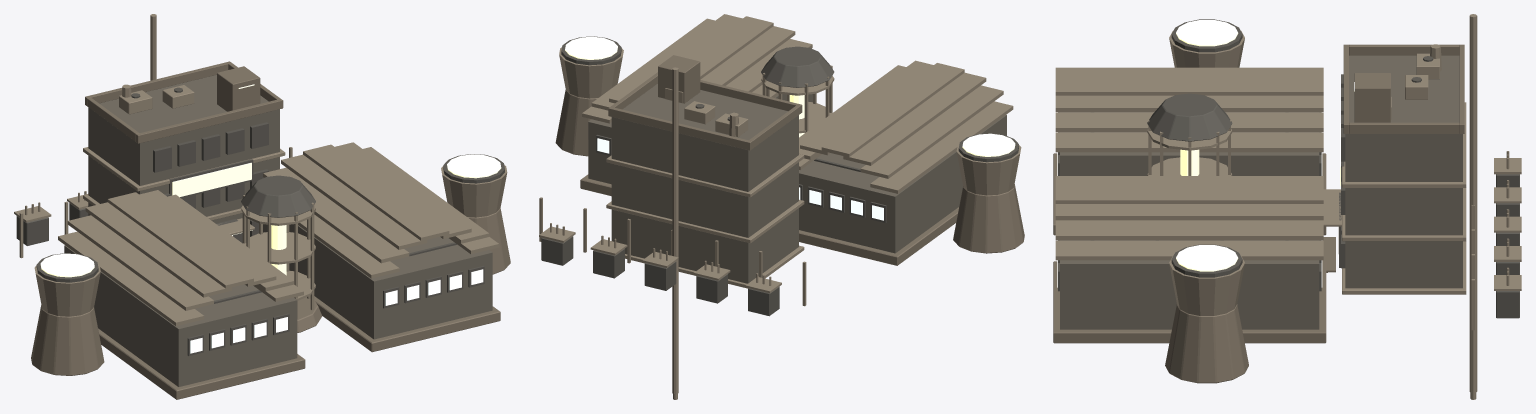
The model's file is model_compute.glb.
3 views of the same model, side by side, from view 1: azimuth 30°, elevation 25°; view 2: azimuth 150°, elevation 25°; view 3: azimuth 270°, elevation 25° (orthographic). The views are drawn at different scales.
Parts seen in each view (by area): view 1: model_compute_Steel@industrial, model_compute_Graphite@industrial, model_compute_Concrete@industrial, model_compute_DarkAlloy@industrial, model_compute_Amber, model_compute_CoolGlass; view 2: model_compute_Steel@industrial, model_compute_Graphite@industrial, model_compute_Concrete@industrial, model_compute_DarkAlloy@industrial, model_compute_Amber, model_compute_CoolGlass; view 3: model_compute_Steel@industrial, model_compute_Graphite@industrial, model_compute_Concrete@industrial, model_compute_DarkAlloy@industrial, model_compute_Amber.
Part boxes in pixels (left/top/right/bottom): model_compute_Steel@industrial: left=14, top=14, right=507, bottom=326; model_compute_Graphite@industrial: left=64, top=75, right=492, bottom=386; model_compute_Concrete@industrial: left=31, top=61, right=510, bottom=399; model_compute_DarkAlloy@industrial: left=16, top=87, right=504, bottom=355; model_compute_Amber: left=40, top=84, right=501, bottom=277; model_compute_CoolGlass: left=190, top=269, right=483, bottom=353; model_compute_Steel@industrial: left=539, top=14, right=1021, bottom=399; model_compute_Graphite@industrial: left=588, top=83, right=1006, bottom=283; model_compute_Concrete@industrial: left=555, top=55, right=1024, bottom=265; model_compute_DarkAlloy@industrial: left=541, top=36, right=1018, bottom=316; model_compute_Amber: left=565, top=36, right=1015, bottom=156; model_compute_CoolGlass: left=597, top=138, right=883, bottom=220; model_compute_Steel@industrial: left=1055, top=14, right=1521, bottom=399; model_compute_Graphite@industrial: left=1060, top=55, right=1462, bottom=329; model_compute_Concrete@industrial: left=1053, top=44, right=1464, bottom=383; model_compute_DarkAlloy@industrial: left=1058, top=19, right=1519, bottom=318; model_compute_Amber: left=1176, top=20, right=1354, bottom=271.
Size of the model in its own units: 35.56 by 24.45 by 27.1.
